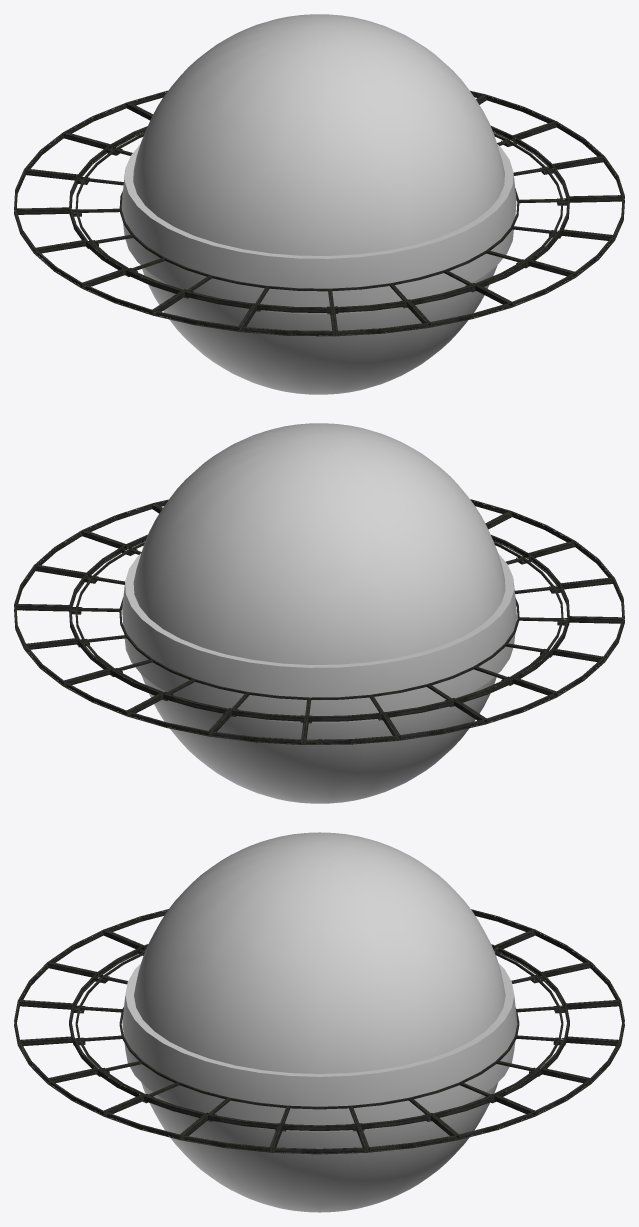
The model's file is tesla_modules_core_sphere_01.dae.
3 renders of one model, top to bottom at view 1: azimuth 30°, elevation 25°; view 2: azimuth 150°, elevation 25°; view 3: azimuth 270°, elevation 25°, orthographic.
Visible parts, largest first — view 1: polySurface777, polySurface778, polySurface779; view 2: polySurface777, polySurface778, polySurface779; view 3: polySurface777, polySurface778, polySurface779.
Part boxes in pixels (bbox=[...]): polySurface777: bbox=[133, 14, 504, 394]; polySurface778: bbox=[121, 144, 516, 314]; polySurface779: bbox=[14, 90, 624, 336]; polySurface777: bbox=[133, 423, 505, 803]; polySurface778: bbox=[122, 553, 516, 723]; polySurface779: bbox=[14, 499, 624, 744]; polySurface777: bbox=[134, 832, 505, 1212]; polySurface778: bbox=[122, 963, 517, 1132]; polySurface779: bbox=[14, 909, 624, 1154].
Bounding box in the file's own units: 18.48 × 11.56 × 18.48.
